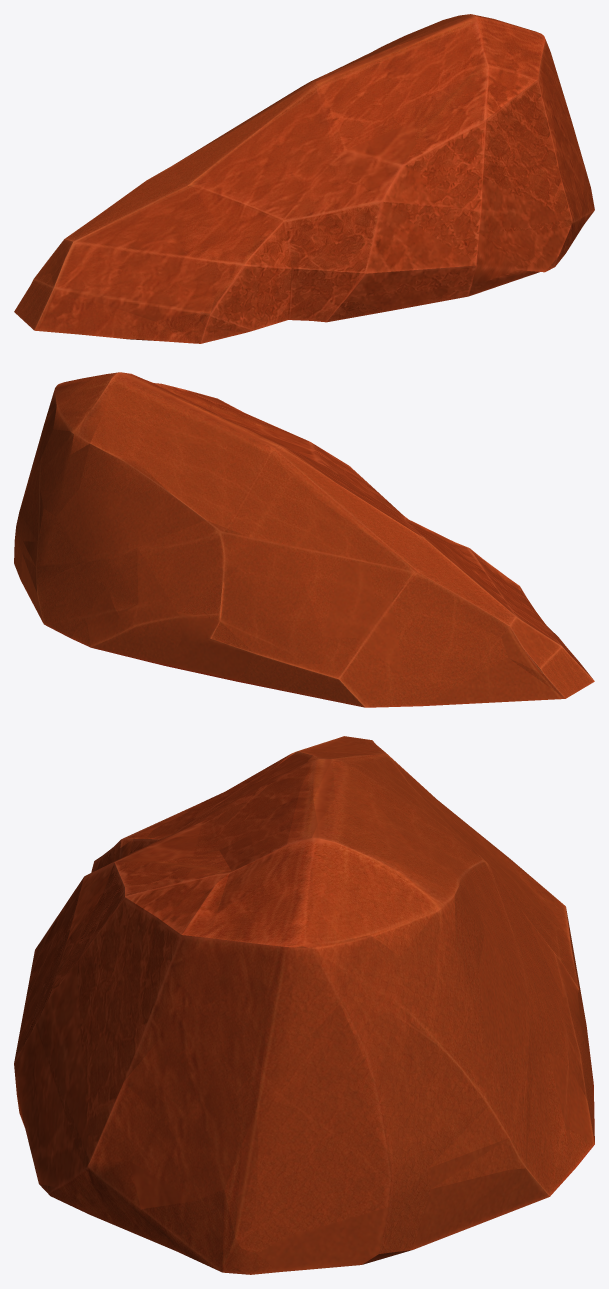
Rendered from desert_small_5.glb.
The picture shows the model from 3 angles, top to bottom: view 1: azimuth 30°, elevation 25°; view 2: azimuth 150°, elevation 25°; view 3: azimuth 270°, elevation 25°; orthographic projection. The views are drawn at different scales.
Visible parts, largest first — view 1: output_unwrapped; view 2: output_unwrapped; view 3: output_unwrapped.
Part boxes in pixels (bbox=[...]): output_unwrapped: bbox=[14, 14, 594, 343]; output_unwrapped: bbox=[14, 372, 594, 707]; output_unwrapped: bbox=[14, 736, 594, 1274].
Size of the model in its own units: 1.9 by 0.6566 by 0.9788.
1 material, 1 textured.
